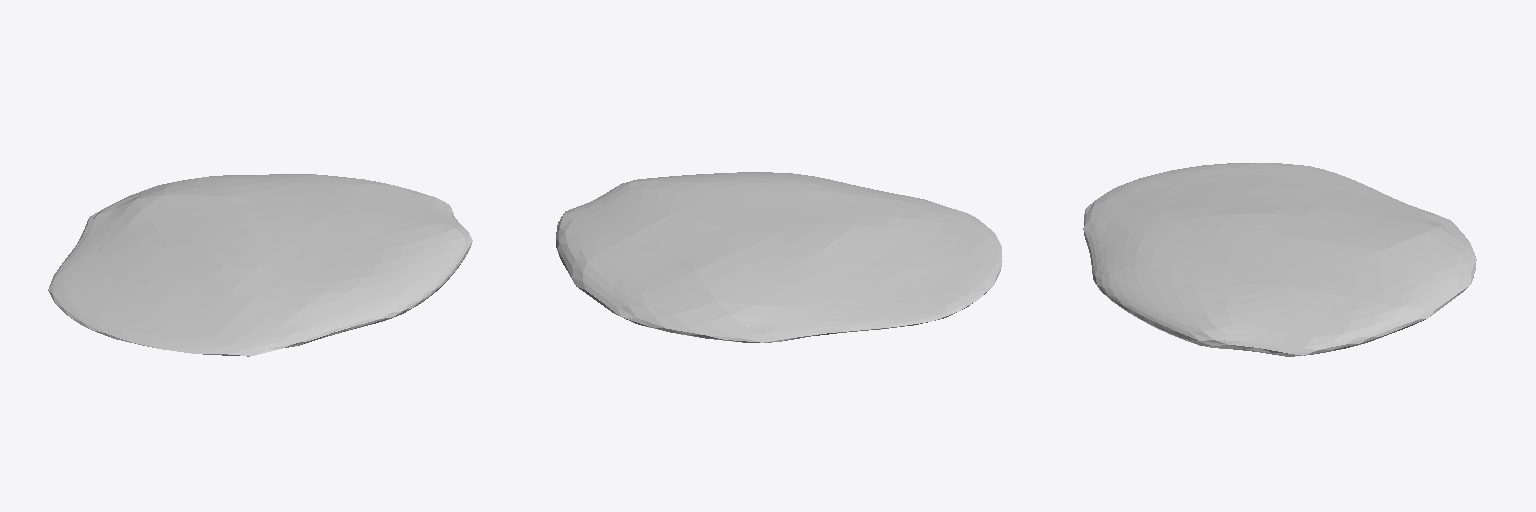
File: island.obj
3 views of the same model, side by side, from view 1: azimuth 30°, elevation 25°; view 2: azimuth 150°, elevation 25°; view 3: azimuth 270°, elevation 25° (orthographic).
Parts seen in each view (by area): view 1: Icosphere; view 2: Icosphere; view 3: Icosphere.
Part boxes in pixels (bbox=[...]): Icosphere: bbox=[48, 174, 472, 356]; Icosphere: bbox=[556, 172, 1002, 342]; Icosphere: bbox=[1083, 163, 1476, 356].
Size of the model in its own units: 79.08 by 6.99 by 67.84.